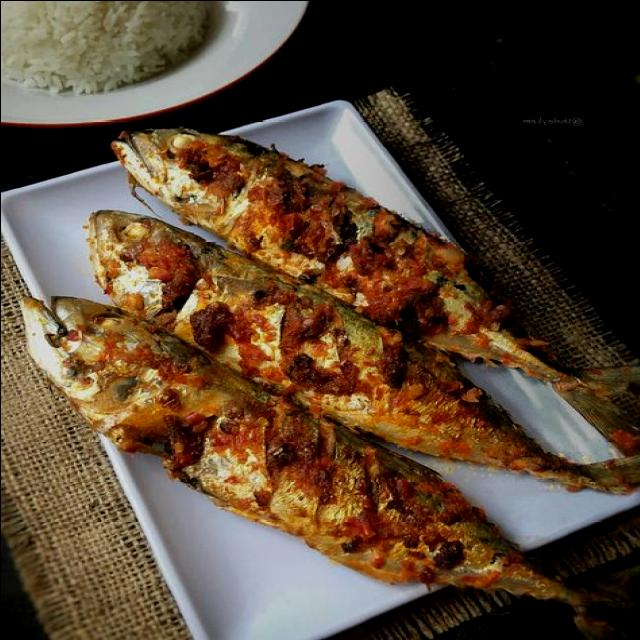ikan bakar: (19, 294, 640, 640), (84, 210, 640, 495), (111, 128, 564, 384)
